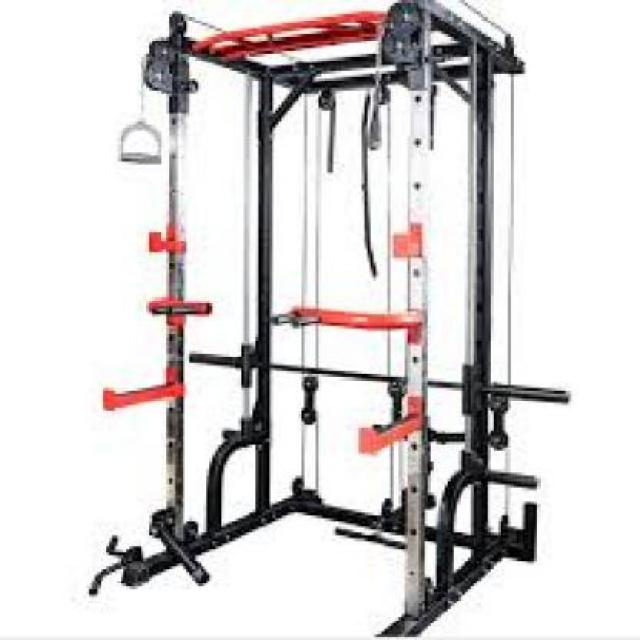smith machine: (91, 0, 538, 637)
